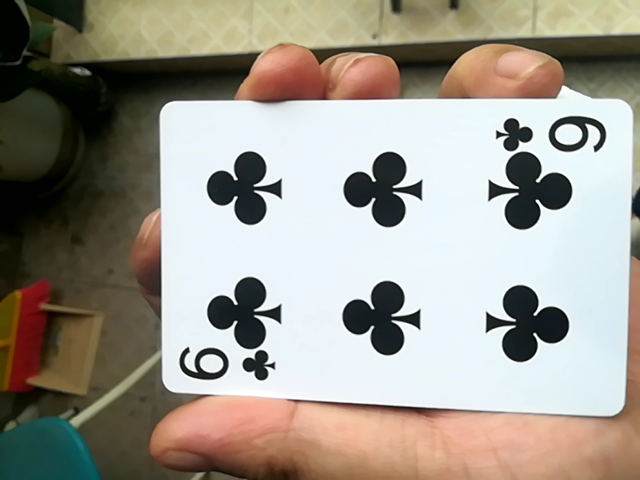mh 6: (142, 101, 630, 421)
